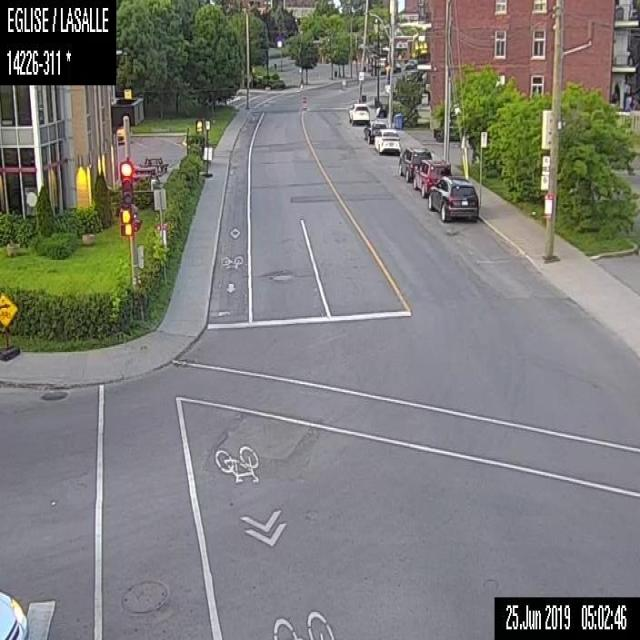vehicle: (427, 174, 480, 223), (0, 586, 28, 638), (412, 158, 449, 196), (396, 146, 431, 182), (374, 128, 401, 155), (361, 118, 388, 142), (348, 101, 370, 126)
